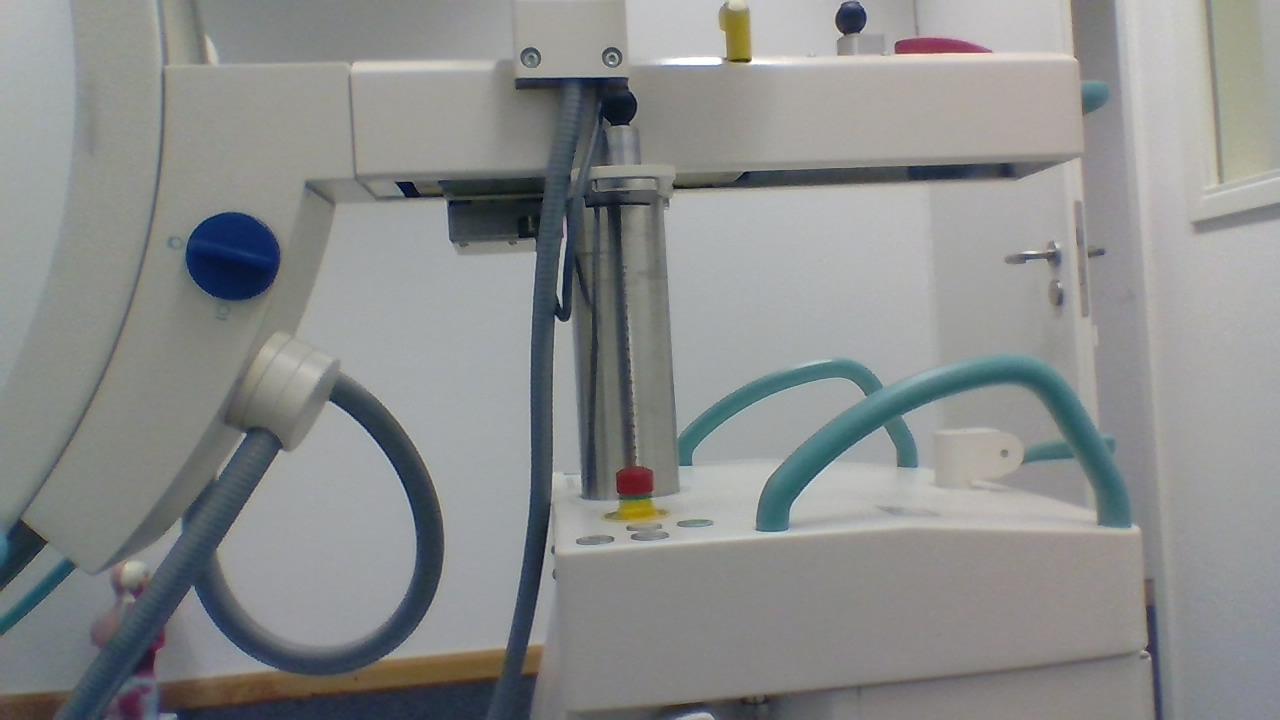carmBACK: (930, 427, 1118, 492)
carmLOCK: (184, 208, 282, 301)
